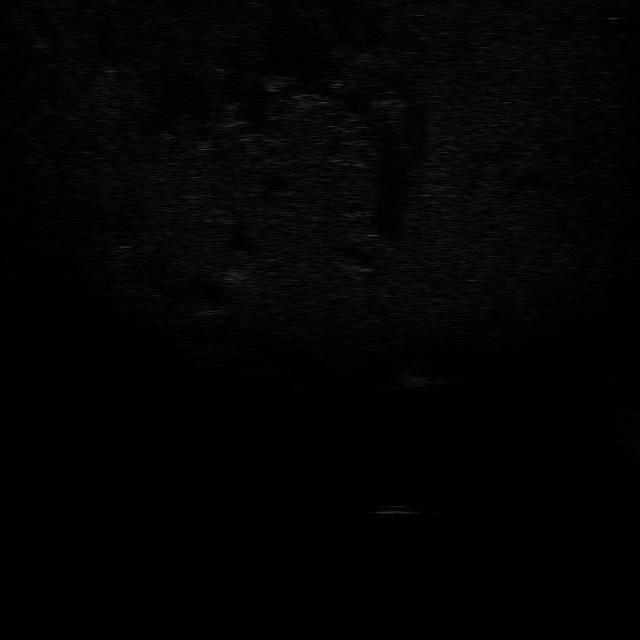cube: (371, 502, 419, 518)
square cage: (392, 369, 446, 388)
